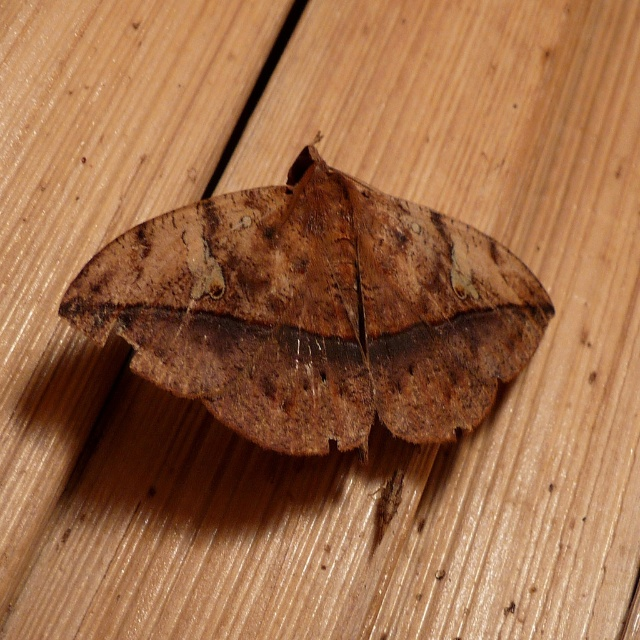Moths and butterflies: (55, 128, 557, 452)
